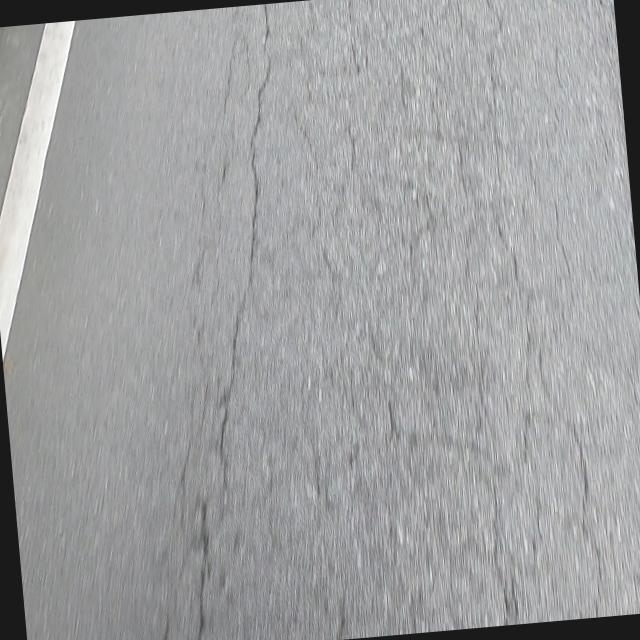Retak-Buaya: (165, 0, 605, 640)
Retak-Memanjang: (217, 5, 273, 462)
